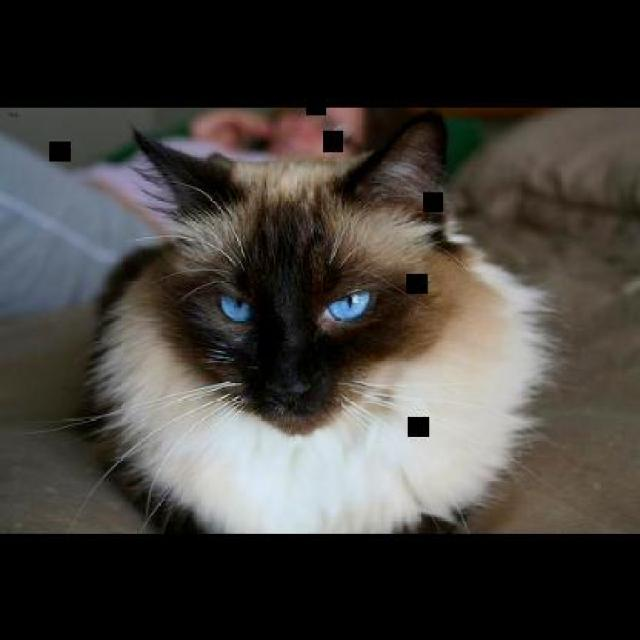unauthorized: (43, 110, 562, 536)
